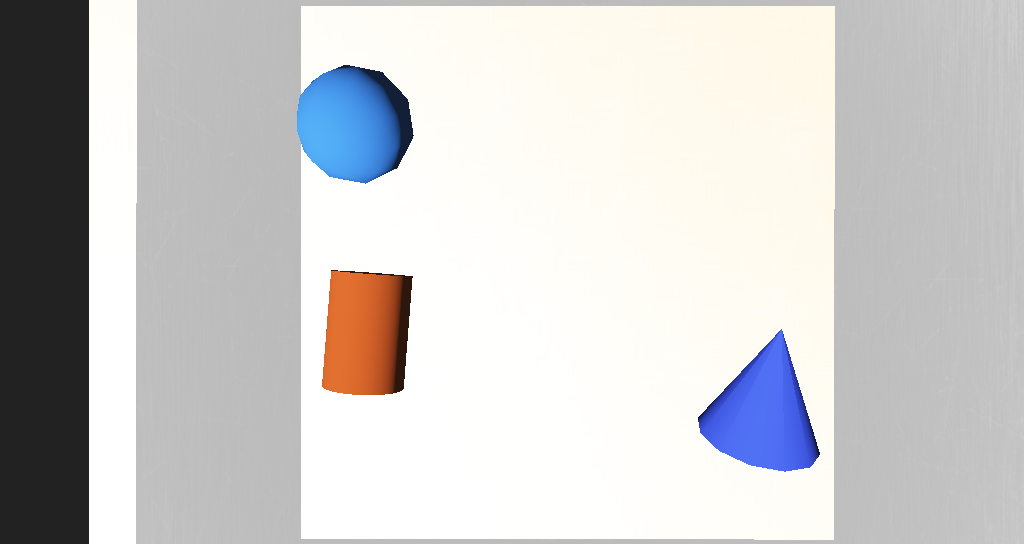cone: (364, 267, 418, 315)
cylinder: (573, 284, 653, 346)
sphere: (360, 186, 421, 234)
